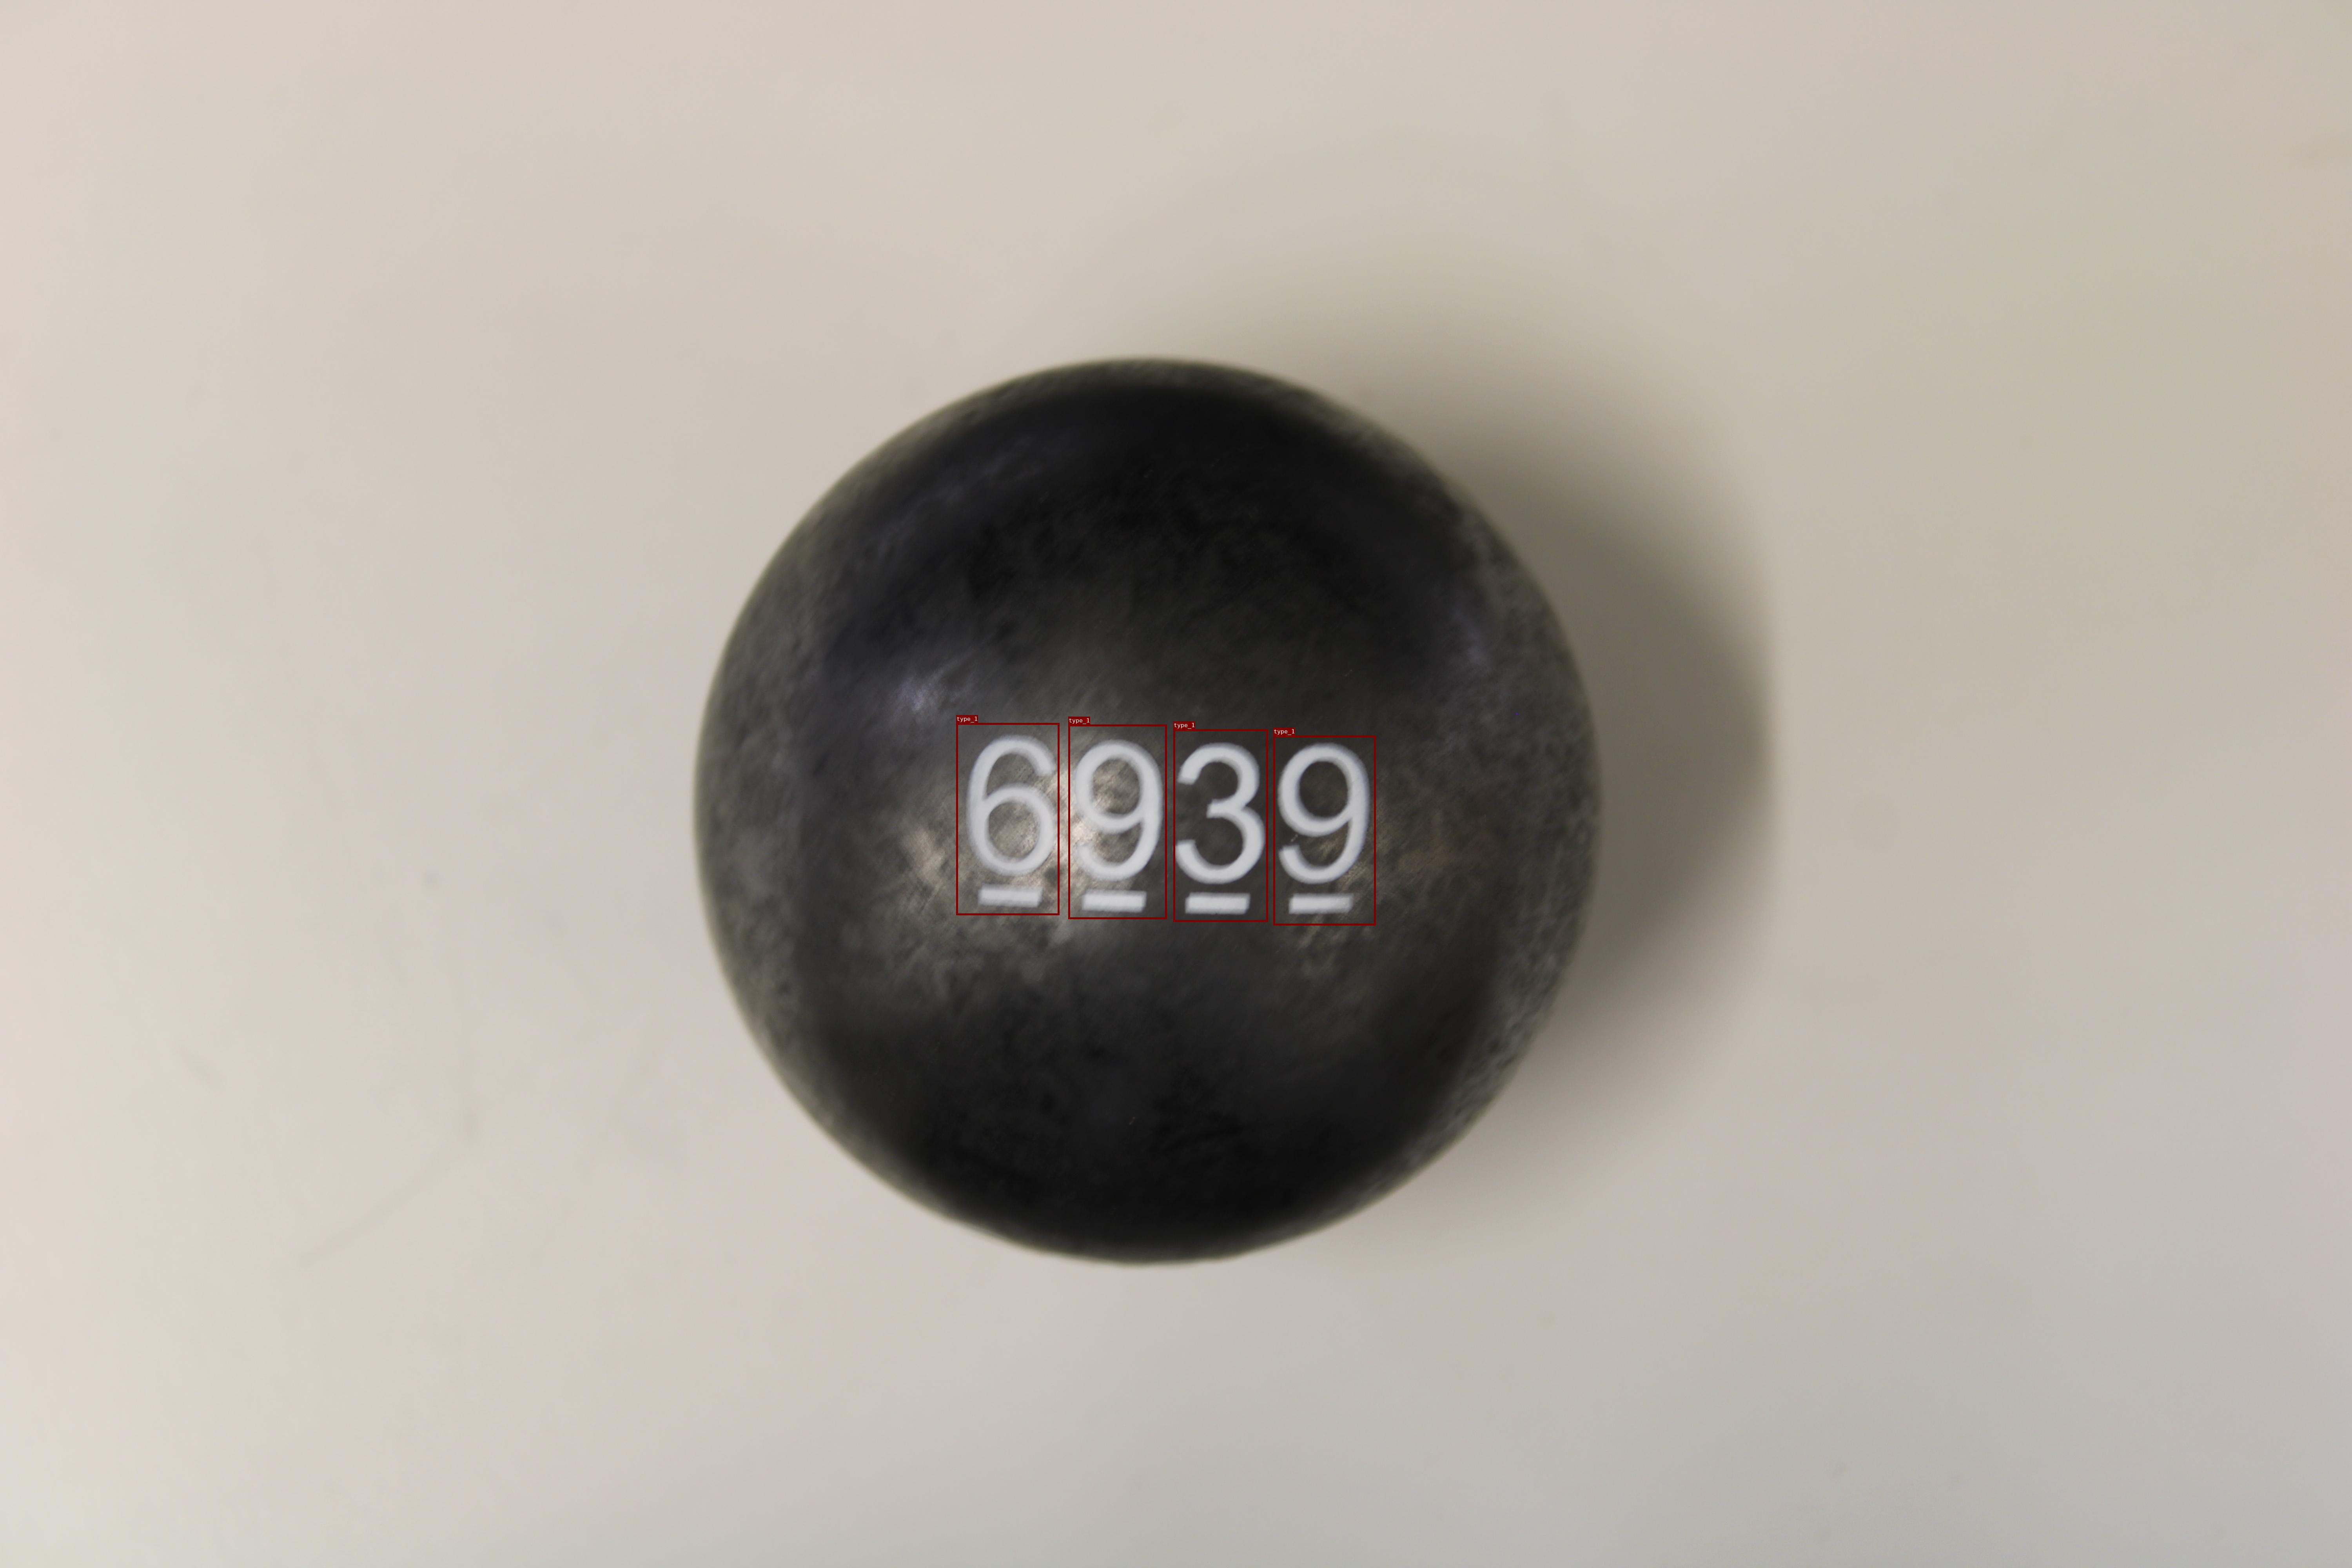type_1: (955, 723, 1059, 915), (1067, 724, 1167, 919), (1274, 735, 1375, 926), (1172, 730, 1267, 922)
